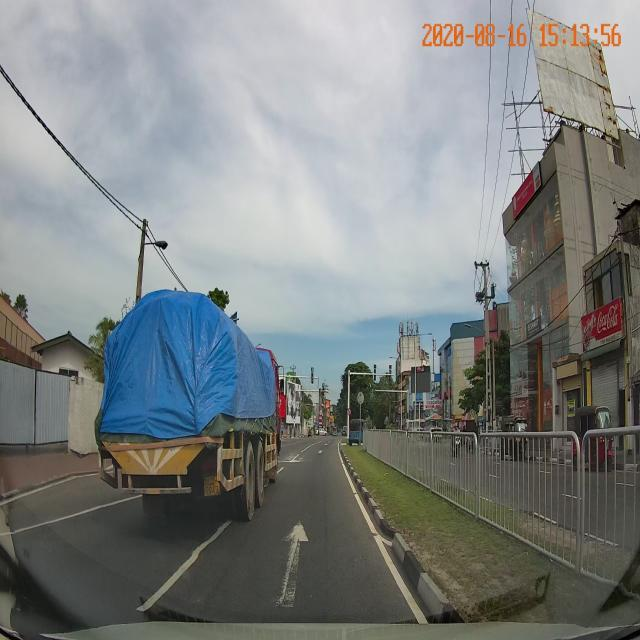forward: (146, 507, 416, 599)
